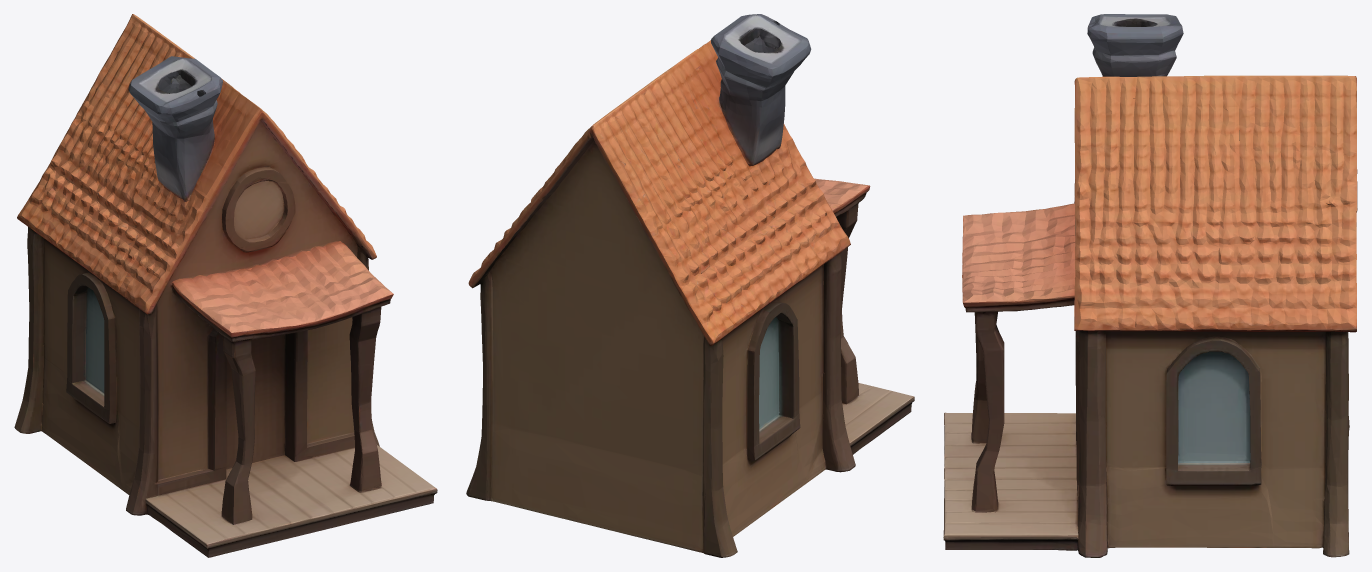
Rendered from partflow_t01.glb.
3 renders of one model, left to right at view 1: azimuth 30°, elevation 25°; view 2: azimuth 150°, elevation 25°; view 3: azimuth 270°, elevation 25°, orthographic. The views are drawn at different scales.
Visible parts, largest first — view 1: geometry_0; view 2: geometry_0; view 3: geometry_0.
Boxes of the visible parts, left/top/right/bottom form: geometry_0: left=14, top=14, right=437, bottom=557; geometry_0: left=466, top=14, right=914, bottom=557; geometry_0: left=943, top=14, right=1357, bottom=557.
Size of the model in its own units: 0.725 by 1.13 by 0.9483.
Materials: 1 (1 with a texture image).
